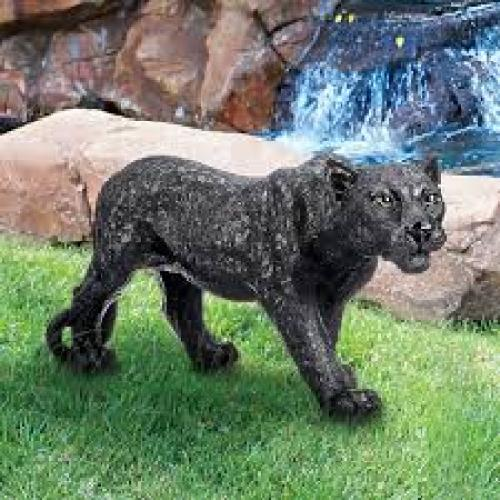panther-endangered: (48, 142, 445, 424)
